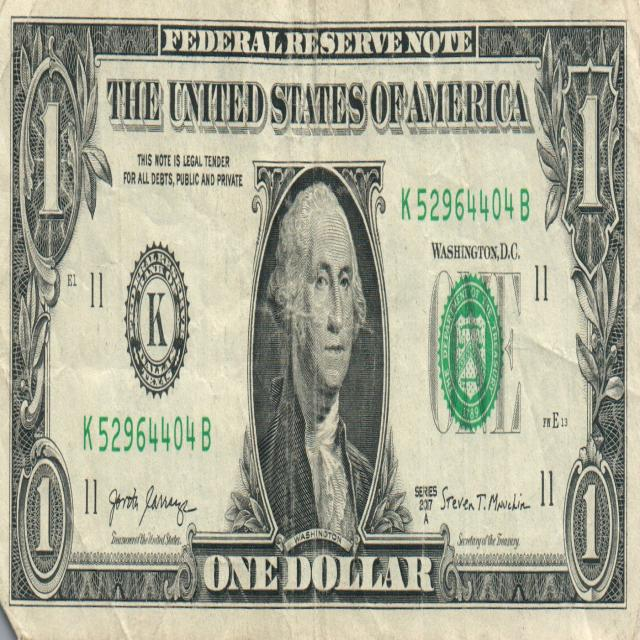SerialNumber: (84, 416, 210, 452), (402, 188, 529, 222)
